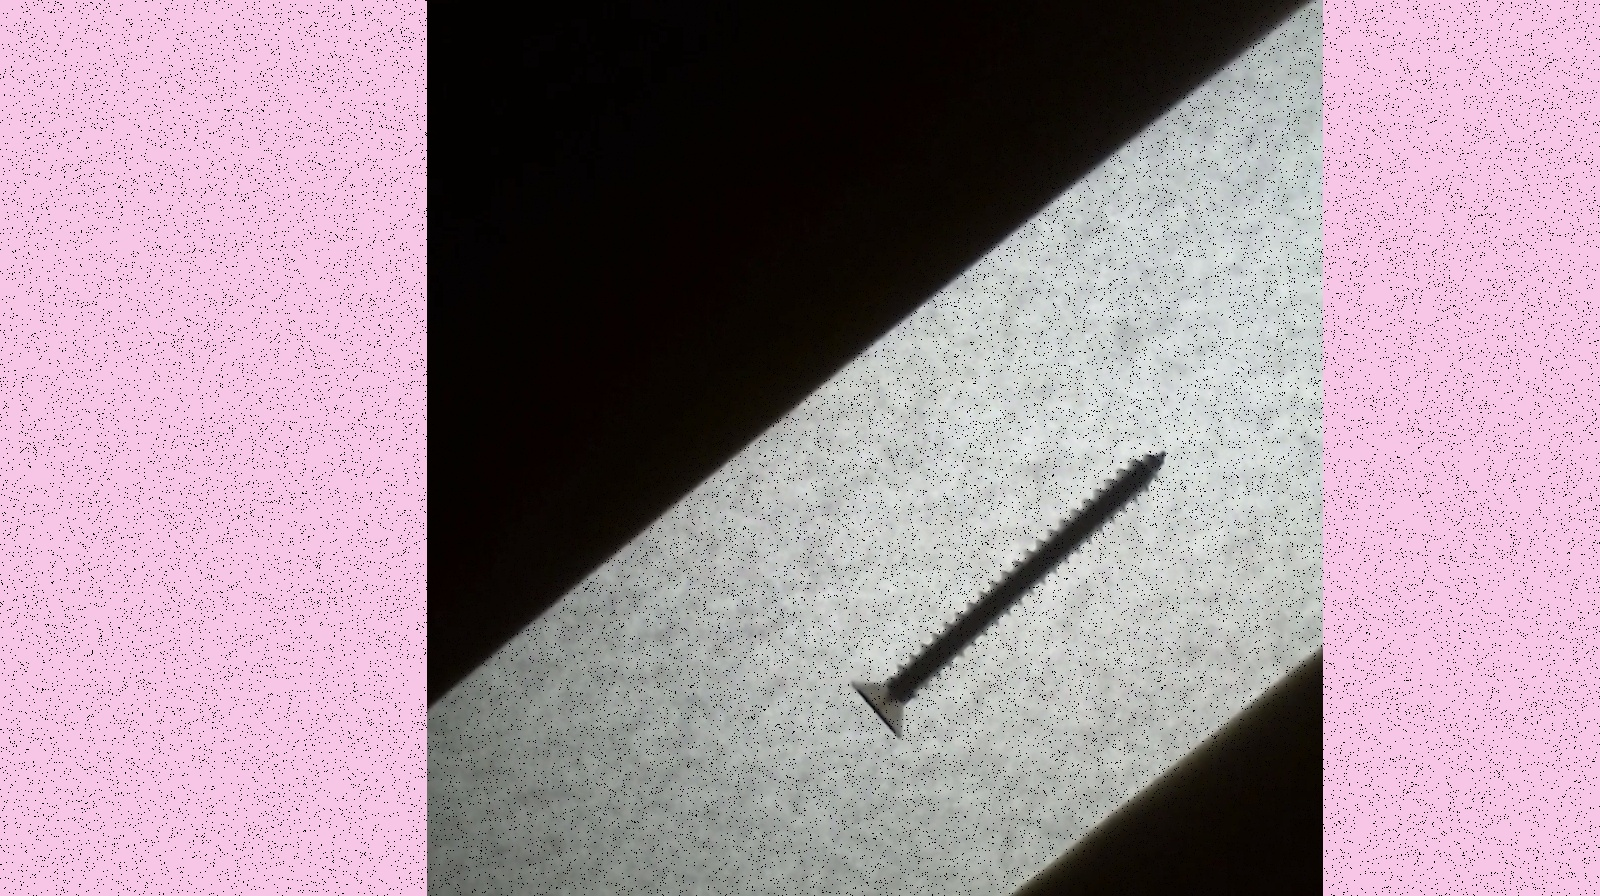S002: (834, 436, 1185, 755)
